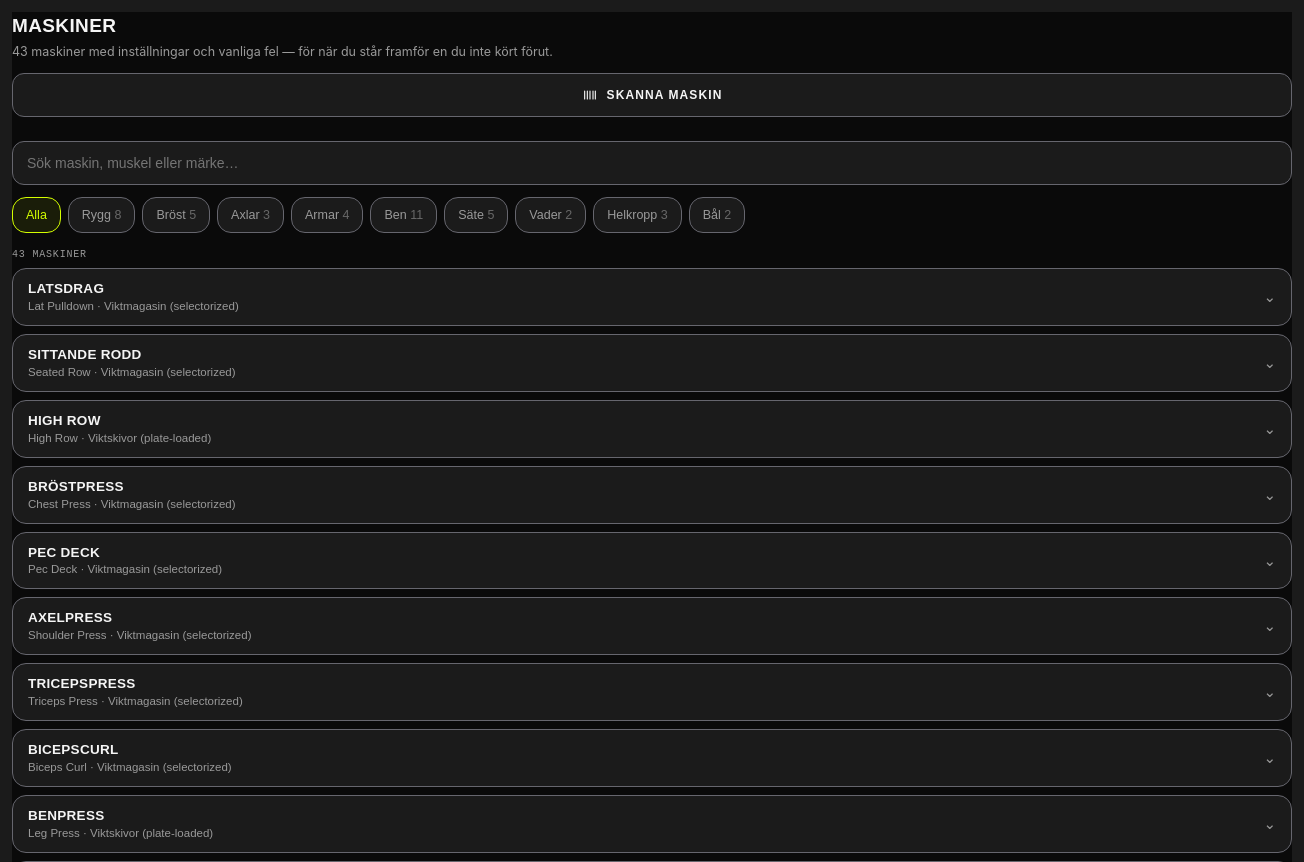
Test: guiden visar allt › en öppnad maskin visar inställningar OCH vanliga fel
Click the button "Latsdrag Lat Pulldown · Viktmagasin (selectorized) ⌄" at (66, 289), box [13, 269, 1291, 325]
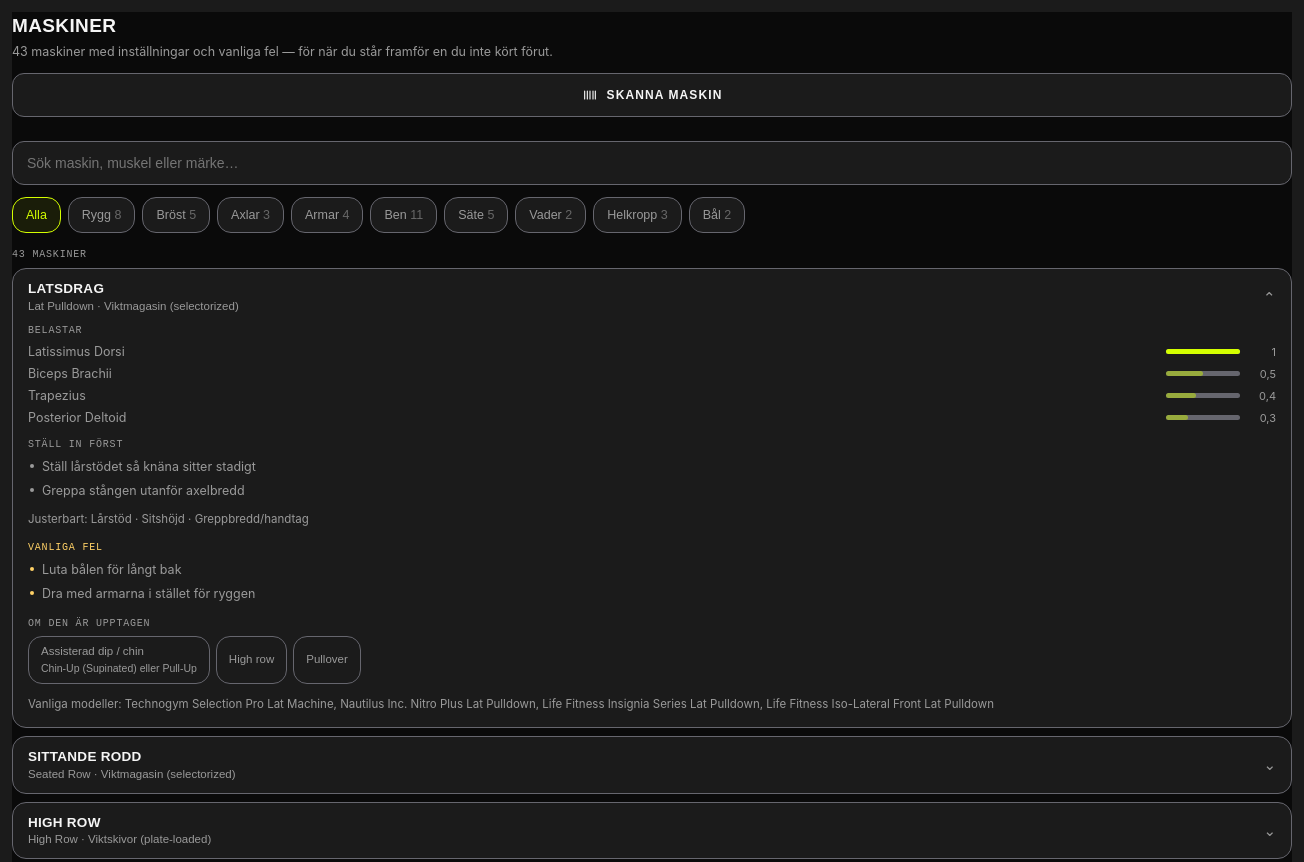
Expected: the text "vanliga fel" is shown, [28, 44, 553, 59]
Expected: the text "Ställ in först" is shown, [28, 439, 123, 450]
Expected: the text "Om den är upptagen" is shown, [28, 618, 150, 629]
